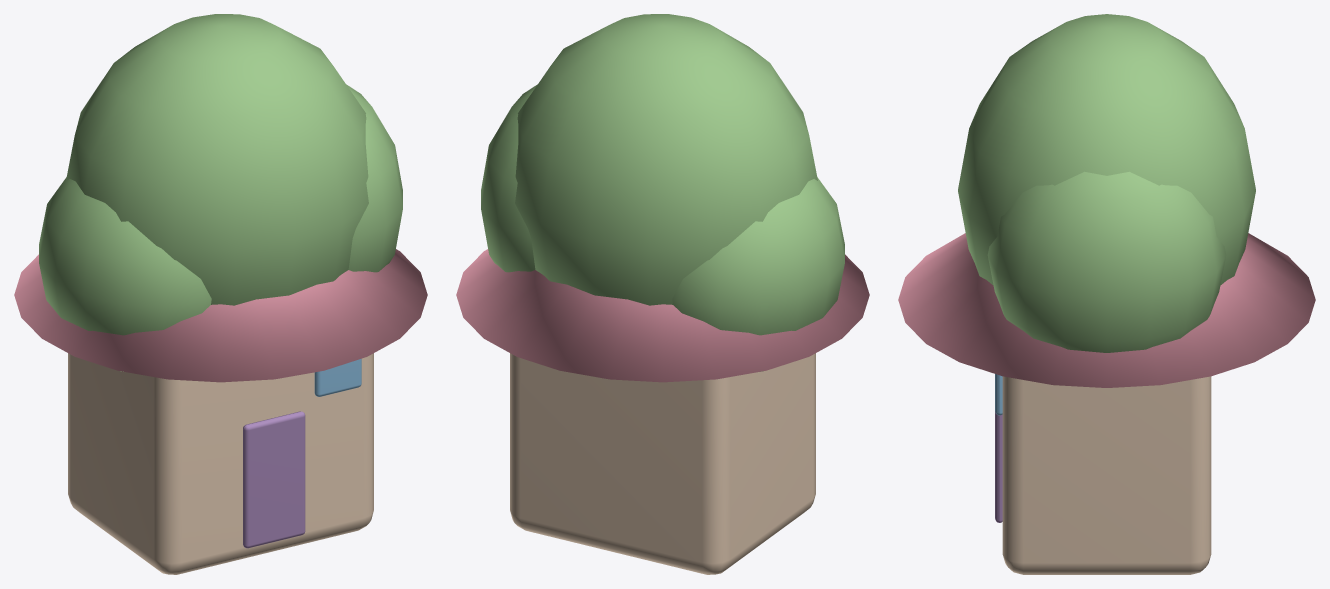
The model's file is toybox.glb.
The picture shows the model from 3 angles, left to right: view 1: azimuth 30°, elevation 25°; view 2: azimuth 150°, elevation 25°; view 3: azimuth 270°, elevation 25°; orthographic projection.
Visible parts, largest first — view 1: tree, house; view 2: tree, house; view 3: tree, house.
Part boxes in pixels (x1,y1,x2,y2): tree: (39,14,402,371); house: (14,249,427,574); tree: (481,14,844,371); house: (456,249,869,574); tree: (958,14,1255,352); house: (898,233,1315,574).
Size of the model in its own units: 1.4 by 1.99 by 1.4.
